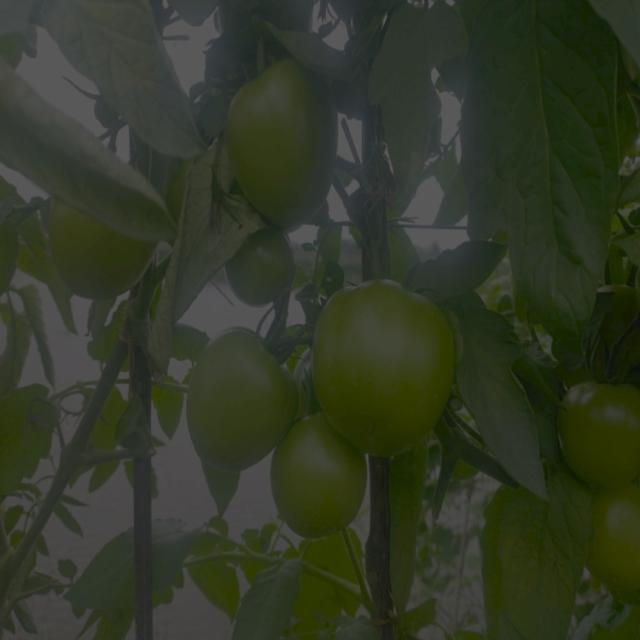tomato: (301, 283, 453, 461), (230, 55, 335, 235), (184, 323, 301, 454), (269, 423, 368, 536), (38, 200, 148, 300), (555, 373, 640, 478), (223, 235, 314, 314), (593, 473, 640, 607)
